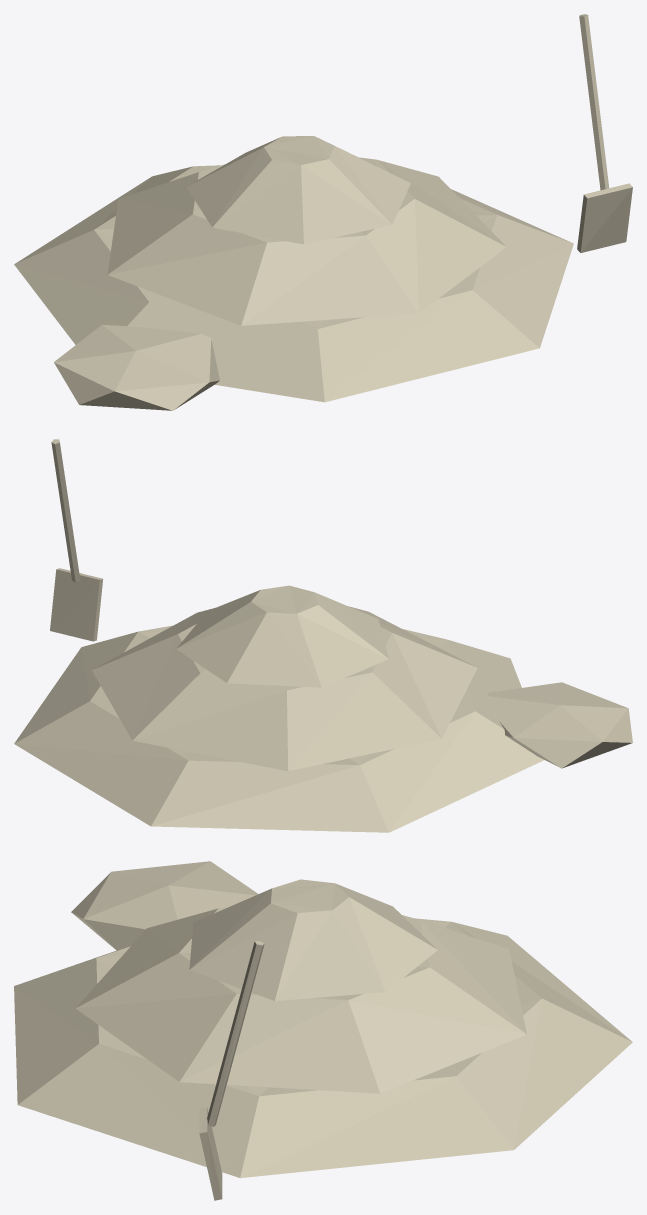
The model's file is sand-pile-00.glb.
3 renders of one model, top to bottom at view 1: azimuth 30°, elevation 25°; view 2: azimuth 150°, elevation 25°; view 3: azimuth 270°, elevation 25°, orthographic. The views are drawn at different scales.
Visible parts, largest first — view 1: sand_pile_00; view 2: sand_pile_00; view 3: sand_pile_00.
Boxes of the visible parts, bbox=[...] form: sand_pile_00: bbox=[14, 14, 632, 410]; sand_pile_00: bbox=[14, 439, 632, 832]; sand_pile_00: bbox=[14, 861, 632, 1200].
Size of the model in its own units: 2.78 by 1 by 2.29.
